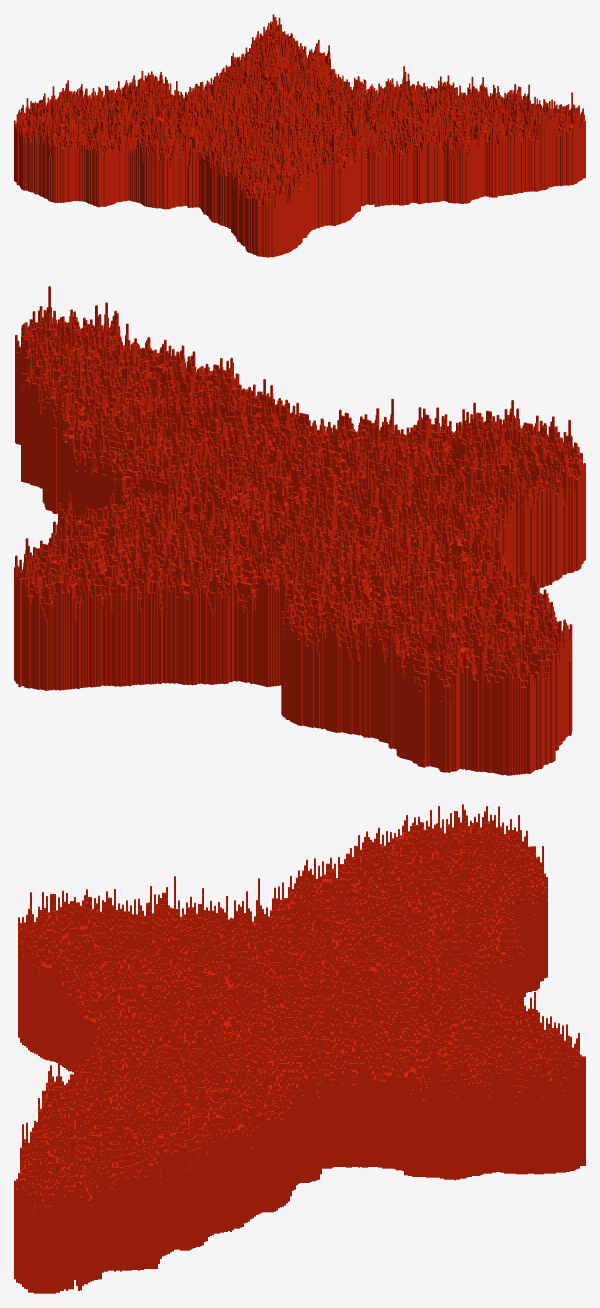
Rendered from solo_dendrite.glb.
3 views of the same model, one above another, from view 1: azimuth 30°, elevation 25°; view 2: azimuth 150°, elevation 25°; view 3: azimuth 270°, elevation 25° (orthographic). The views are drawn at different scales.
Parts seen in each view (by area): view 1: pyvista_mesh_save; view 2: pyvista_mesh_save; view 3: pyvista_mesh_save.
Part boxes in pixels (left/top/right/bottom): pyvista_mesh_save: left=14, top=14, right=585, bottom=257; pyvista_mesh_save: left=14, top=286, right=585, bottom=775; pyvista_mesh_save: left=14, top=804, right=585, bottom=1293.
Size of the model in its own units: 10.78 by 2.47 by 7.15.
